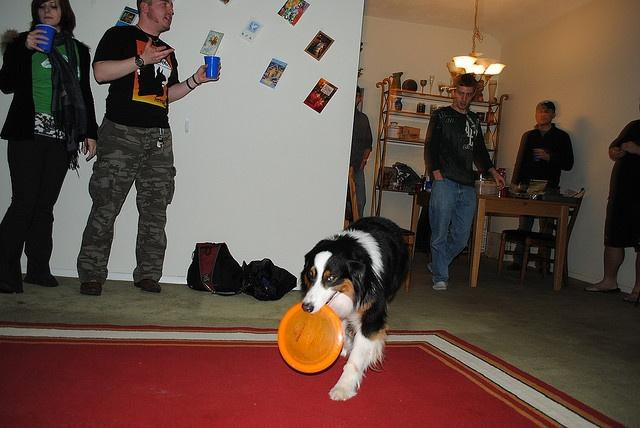Meja: (468, 194, 570, 289)
